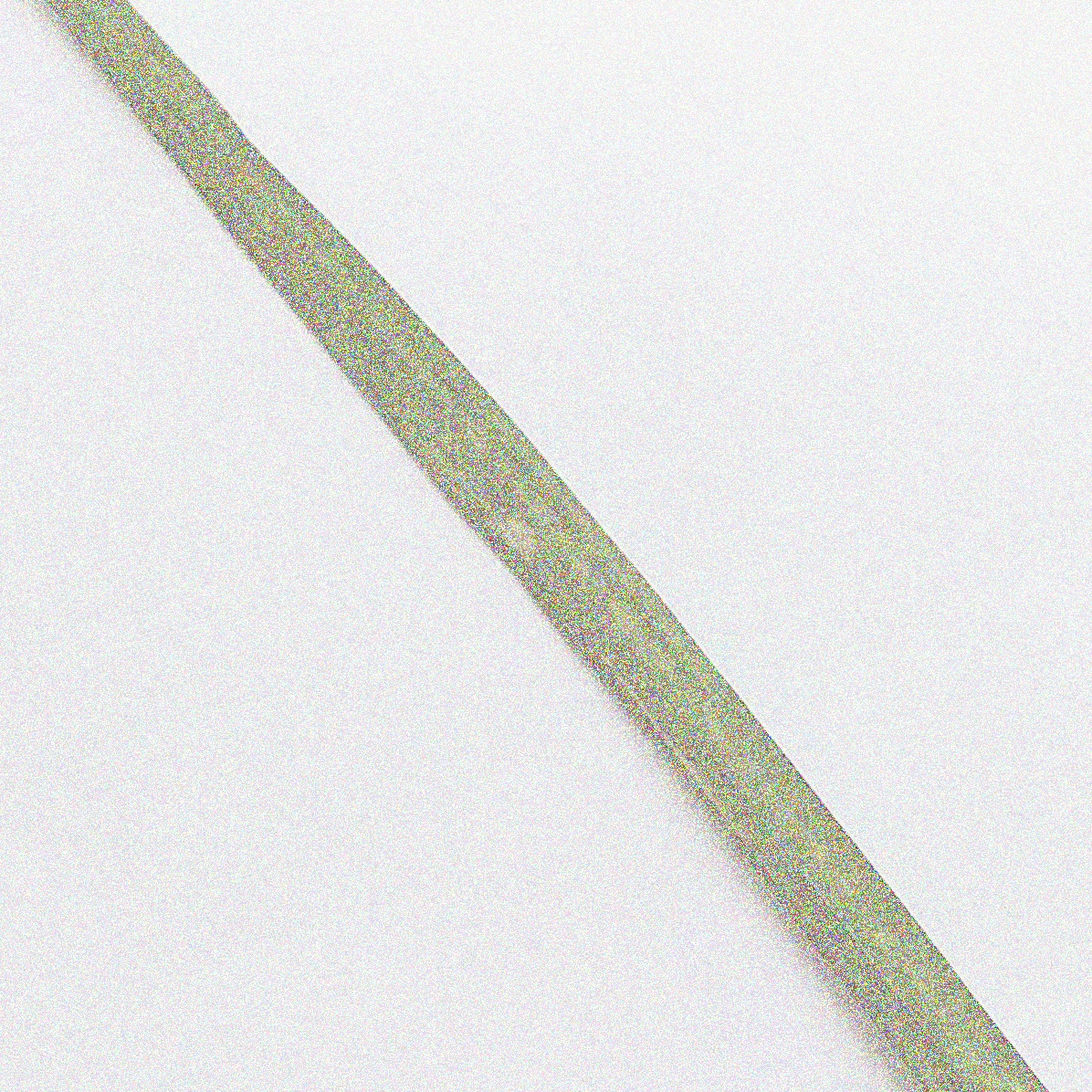Brown_Spot: (480, 498, 551, 574)
